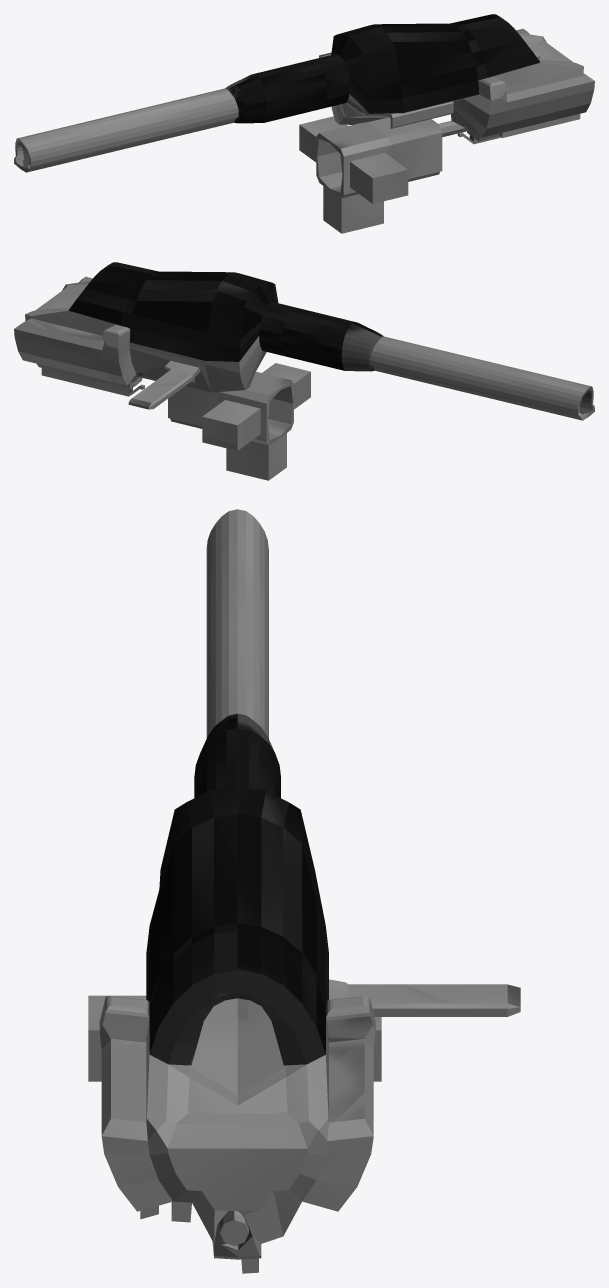
Rendered from ValveChamber.fbx.
3 renders of one model, top to bottom at view 1: azimuth 30°, elevation 25°; view 2: azimuth 150°, elevation 25°; view 3: azimuth 270°, elevation 25°, orthographic. The views are drawn at different scales.
Parts seen in each view (by area): view 1: Valve, Chamber; view 2: Valve, Chamber; view 3: Valve, Chamber.
Boxes of the visible parts, x1,y1,x2,y2 form: Valve: (14,14,594,172); Chamber: (299,116,442,233); Valve: (14,262,594,420); Chamber: (168,363,310,480); Valve: (99,509,520,1273); Chamber: (88,995,381,1081).
Size of the model in its own units: 52.83 by 17.16 by 17.91.
